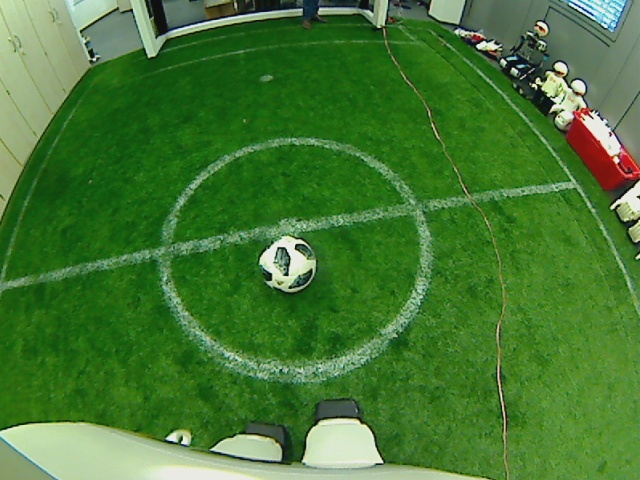ball: (257, 233, 317, 295)
